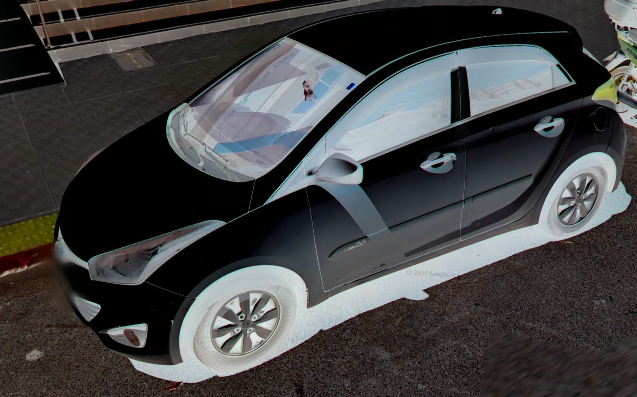car: (54, 5, 628, 373)
